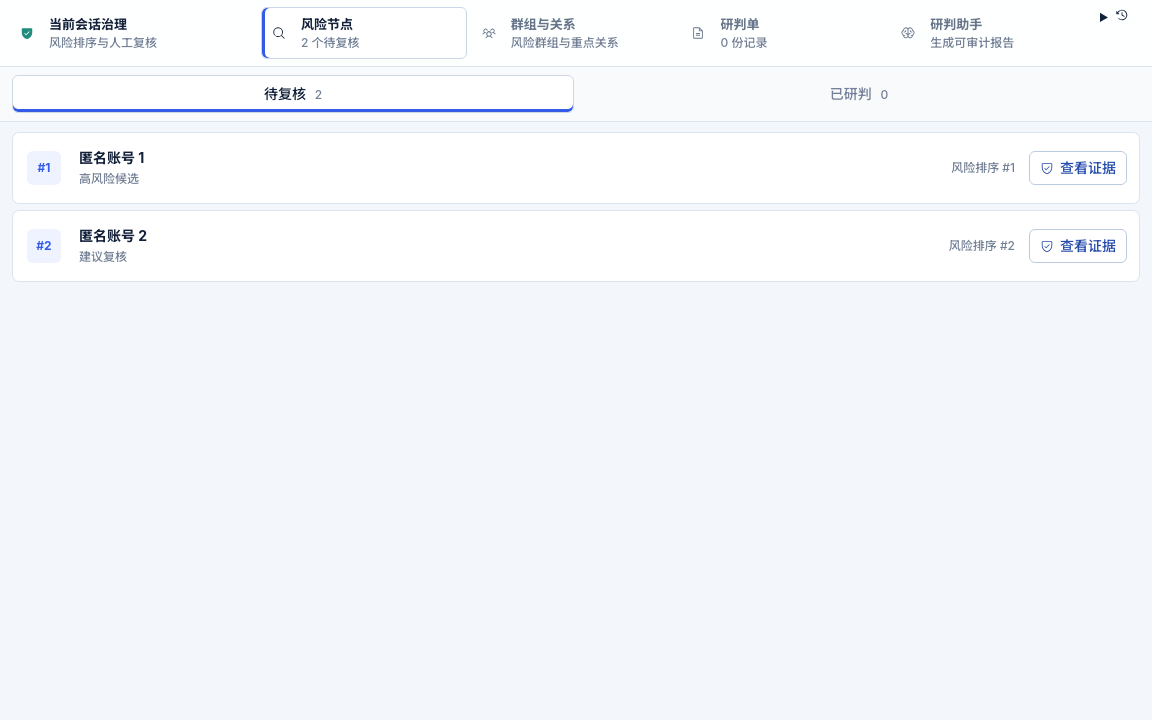
Test: product governance workspace › separates selection, graph highlighting, camera, and the evidence dialog
expect the text "匿名账号 1" is shown: met, box [79, 149, 144, 166]
expect the text "匿名账号 2" is shown: met, box [79, 227, 147, 244]
Step 1. Click the button "#1 匿名账号 1 高风险候选 风险排序 #1" → (44,168), box [13, 133, 1029, 203]
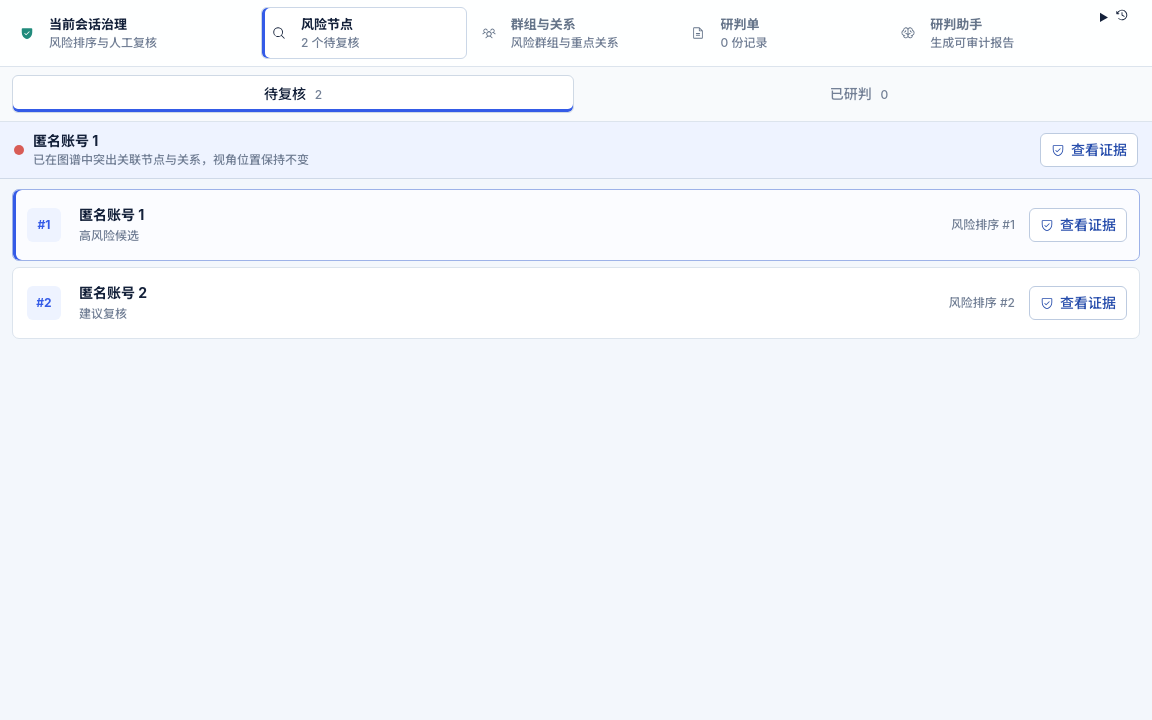
expect the text "已在图谱中突出关联节点与关系，视角位置保持不变" is shown: met, box [33, 151, 309, 169]
Step 2. Click the button with aria-label "查看 匿名账号 1 的证据" → (1078,225), box [1029, 208, 1127, 242]
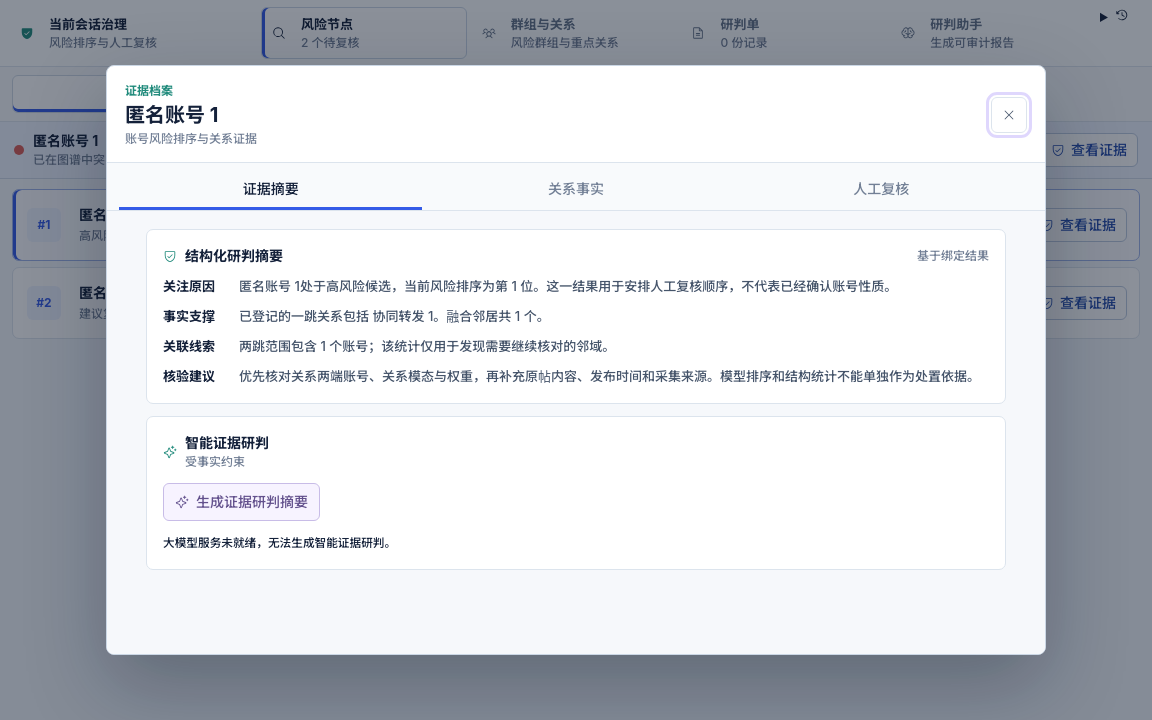
expect the tab "证据摘要" is shown: met, box [119, 170, 422, 210]
expect the tab "关系事实" is shown: met, box [424, 170, 728, 210]
expect the tab "人工复核" is shown: met, box [730, 170, 1033, 210]
Step 3. Click the button named "关闭证据档案" → (1009,115), box [991, 97, 1027, 133]
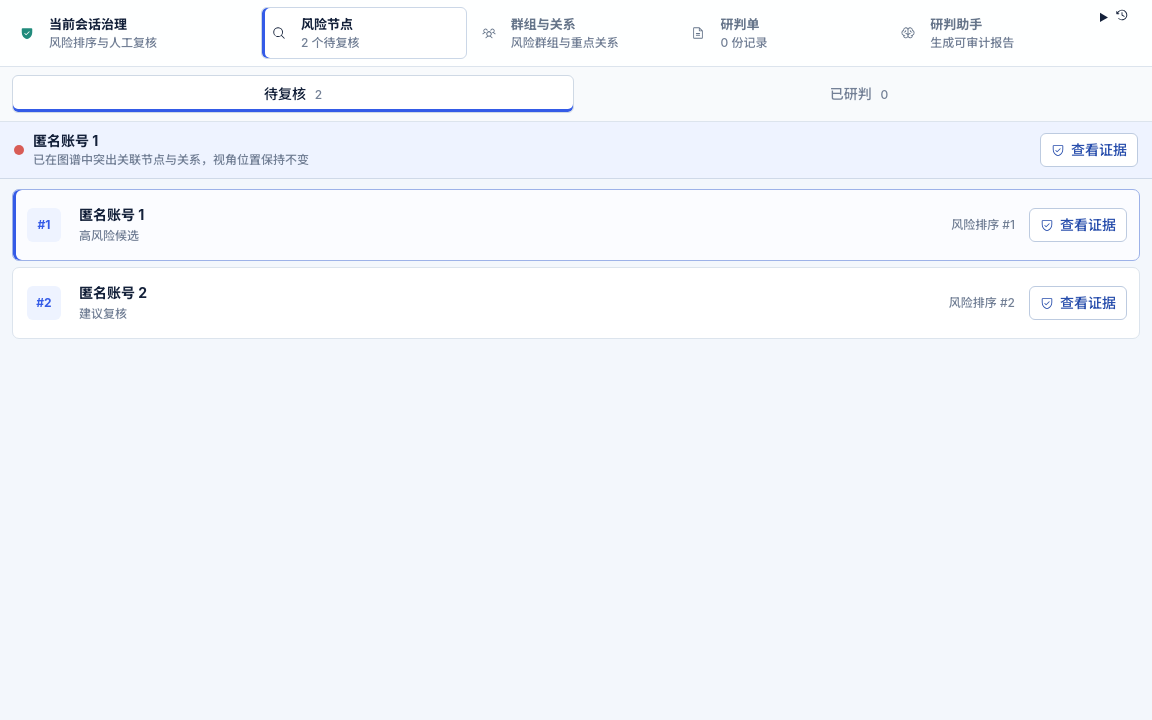
expect the dialog is gone: met
